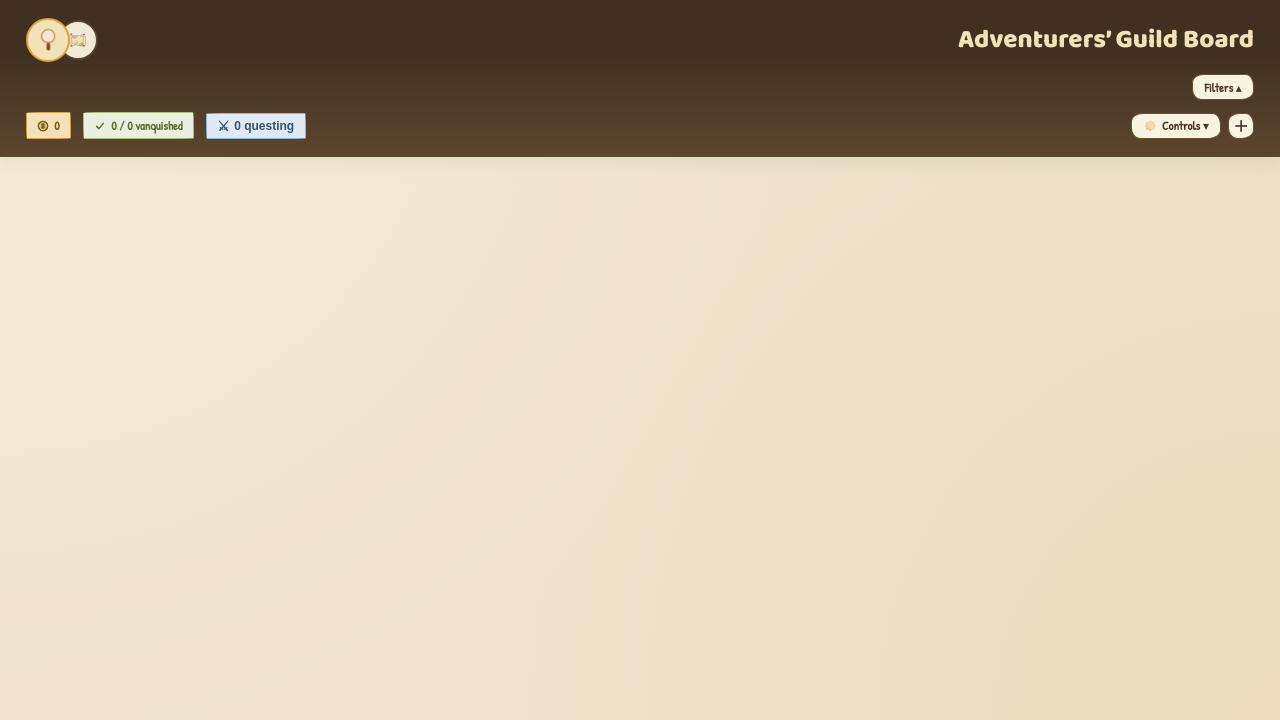
Test: <TopBar/> › clicking the New card button opens NewCardDialog
What coordinates should you click on to do the following:
click the button named "new card"
I would click on:
 (1241, 126)
Its box is [1228,113,1254,139].
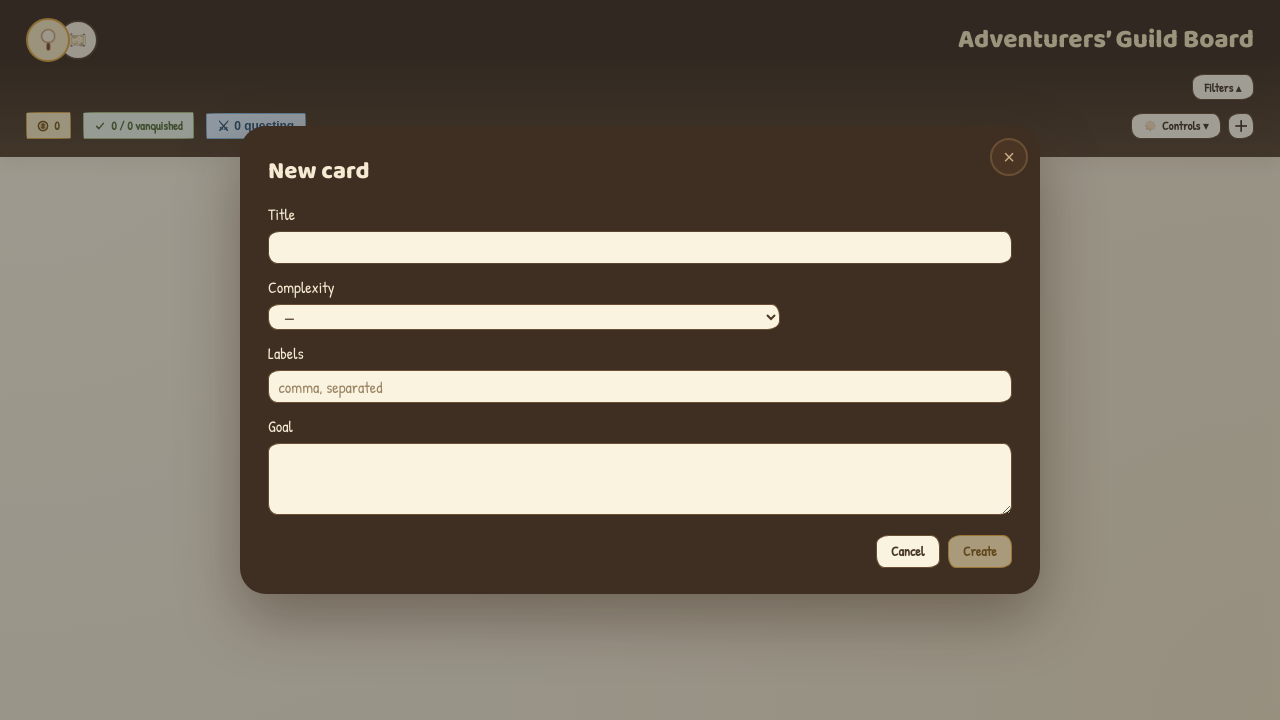
Now the dialog "× New card Title Complexity Labels Goal Cancel Create" is shown, box [240,126,1040,594]
